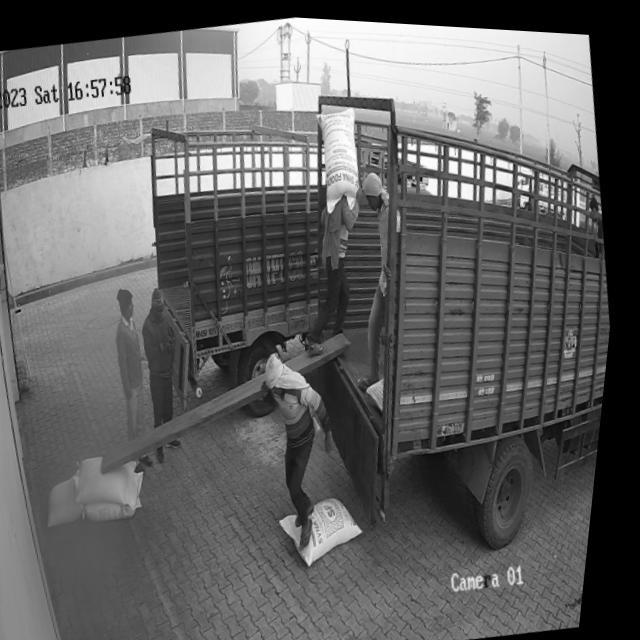sack: (283, 484, 380, 567), (309, 100, 374, 211), (78, 447, 156, 516), (86, 464, 160, 523), (49, 472, 100, 527)
